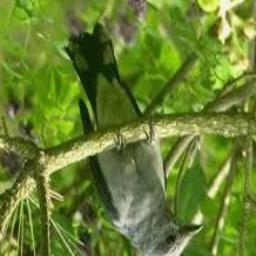Cuckoo: (65, 24, 203, 256)
